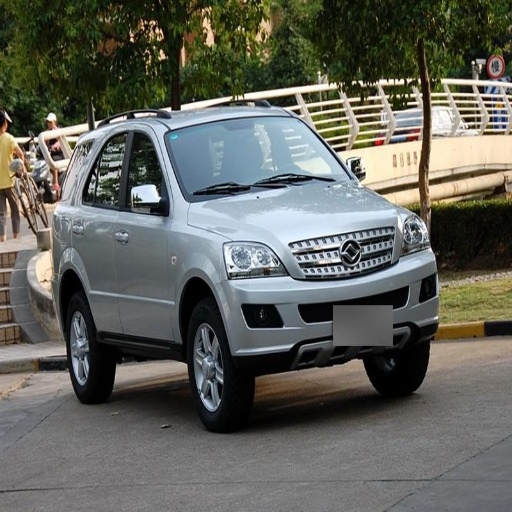back_left_light: (69, 126, 128, 335)
back_right_light: (226, 220, 433, 369)
front_bumper: (163, 116, 350, 201)
front_left_door: (400, 215, 430, 255)
front_left_light: (115, 126, 172, 338)
front_right_door: (224, 241, 283, 277)
front_right_light: (191, 179, 403, 247)
trunk: (188, 301, 252, 431), (65, 292, 114, 403), (368, 341, 428, 394)
